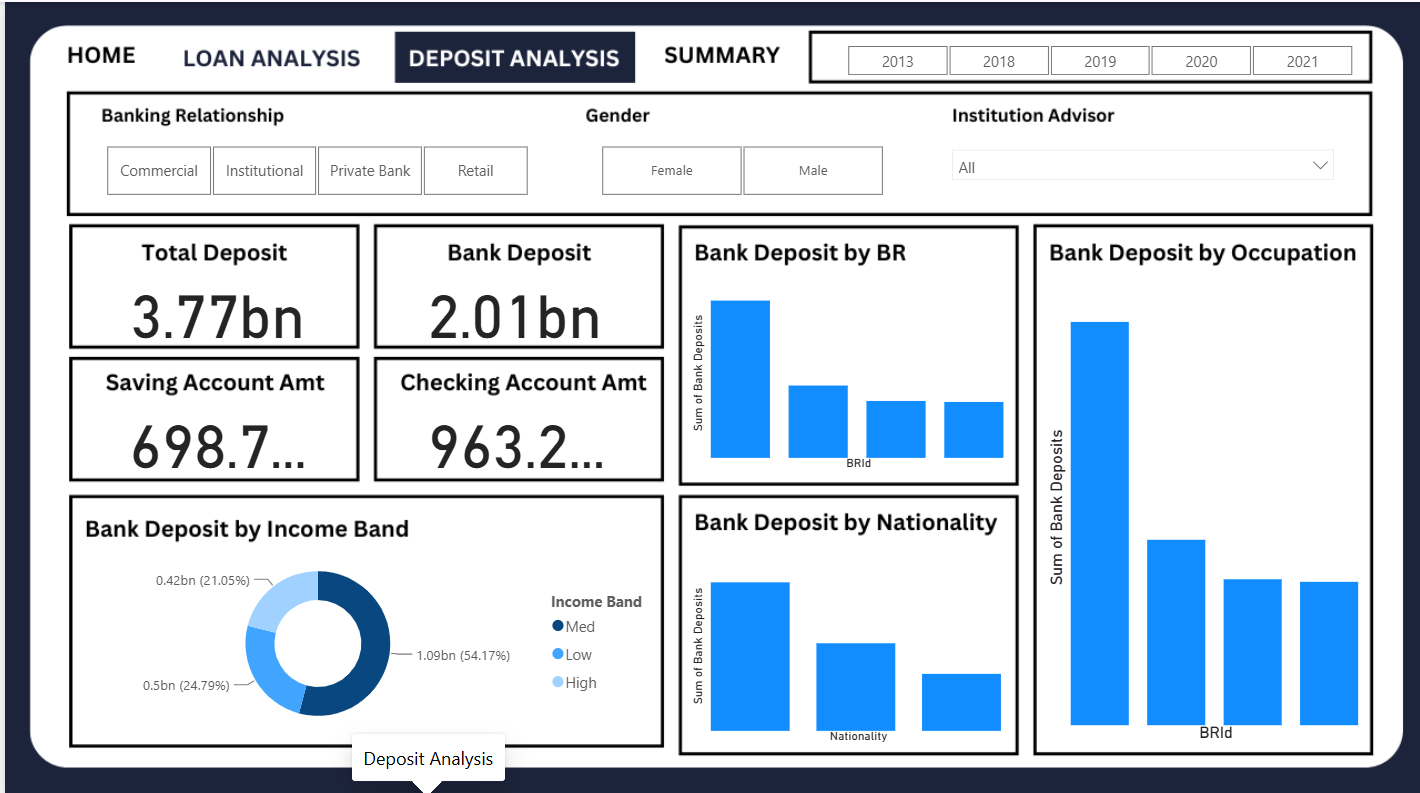

The dashboard page shown, as its layout file describes it:
{"tool":"powerbi","page":{"name":"Deposit Analysis","canvas":[1280,720],"ordinal":2},"visuals":[{"type":"slicer","fields":{"Values":["banking_case customer.Year of Joining"]},"box":[733.3,32.2,504.1,34.9],"z":0},{"type":"actionButton","box":[36.4,31.7,99.7,39.6],"z":1000},{"type":"actionButton","box":[348.2,31.7,221.6,39.6],"z":2000},{"type":"actionButton","box":[587.1,31.7,123.4,39.6],"z":3000},{"type":"card","fields":{"Values":["banking_case customer.Total Deposit"]},"box":[100.9,243.7,179.5,65.5],"z":4000},{"type":"card","fields":{"Values":["Sum(banking_case customer.Bank Deposits)"]},"box":[369.5,243.7,179.5,65.5],"z":5000},{"type":"card","fields":{"Values":["Sum(banking_case customer.Saving Accounts)"]},"box":[100.9,360.4,179.5,65.5],"z":6000},{"type":"card","fields":{"Values":["Sum(banking_case customer.Checking Accounts)"]},"box":[370.8,360.4,179.5,65.5],"z":7000},{"type":"donutChart","fields":{"Category":["banking_case customer.Income Band"],"Y":["Sum(banking_case customer.Bank Deposits)"]},"box":[66.8,488.8,530.7,176.9],"z":8000},{"type":"clusteredColumnChart","fields":{"Category":["banking_case customer.BRId"],"Y":["Sum(banking_case customer.Bank Deposits)"]},"box":[613.3,243.7,293.5,182.1],"z":9000},{"type":"clusteredColumnChart","fields":{"Category":["banking_case customer.Nationality"],"Y":["Sum(banking_case customer.Bank Deposits)"]},"box":[613.3,488.8,293.5,182.1],"z":10000},{"type":"slicer","fields":{"Values":["banking_case customer.BRId"]},"box":[66.8,123.2,428.5,57.7],"z":11000},{"type":"slicer","fields":{"Values":["banking_case customer.GenderId"]},"box":[512.4,123.2,302.7,57.7],"z":12000},{"type":"slicer","fields":{"Values":["banking_case customer.IAId"]},"box":[843.9,123.2,364.3,57.7],"z":13000},{"type":"clusteredColumnChart","fields":{"Category":["banking_case customer.BRId"],"Y":["Sum(banking_case customer.Bank Deposits)"]},"box":[933.7,245.3,292.8,425.7],"z":14000},{"type":"actionButton","box":[136.3,27.5,196.6,40.6],"z":15000}]}

Visuals, with their boxes in screenshot pixels (x1, y1, x2, y2), scaled from the page's 1280x720 canvas onto the 1420x793 screenshot:
slicer - banking_case customer.Year of Joining: (left=814, top=35, right=1373, bottom=74)
actionButton: (left=40, top=35, right=151, bottom=79)
actionButton: (left=386, top=35, right=632, bottom=79)
actionButton: (left=651, top=35, right=788, bottom=79)
card - banking_case customer.Total Deposit: (left=112, top=268, right=311, bottom=341)
card - Sum(banking_case customer.Bank Deposits): (left=410, top=268, right=609, bottom=341)
card - Sum(banking_case customer.Saving Accounts): (left=112, top=397, right=311, bottom=469)
card - Sum(banking_case customer.Checking Accounts): (left=411, top=397, right=610, bottom=469)
donutChart - banking_case customer.Income Band x Sum(banking_case customer.Bank Deposits): (left=74, top=538, right=663, bottom=733)
clusteredColumnChart - banking_case customer.BRId x Sum(banking_case customer.Bank Deposits): (left=680, top=268, right=1006, bottom=469)
clusteredColumnChart - banking_case customer.Nationality x Sum(banking_case customer.Bank Deposits): (left=680, top=538, right=1006, bottom=739)
slicer - banking_case customer.BRId: (left=74, top=136, right=549, bottom=199)
slicer - banking_case customer.GenderId: (left=568, top=136, right=904, bottom=199)
slicer - banking_case customer.IAId: (left=936, top=136, right=1340, bottom=199)
clusteredColumnChart - banking_case customer.BRId x Sum(banking_case customer.Bank Deposits): (left=1036, top=270, right=1361, bottom=739)
actionButton: (left=151, top=30, right=369, bottom=75)
